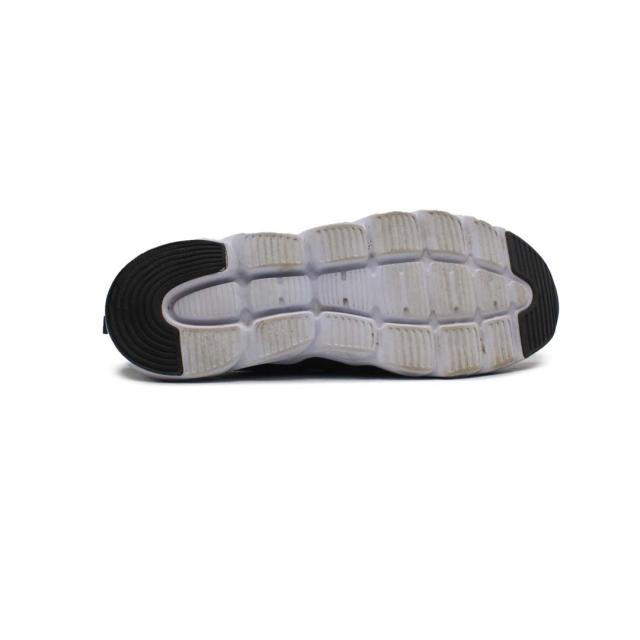outersole: (107, 201, 558, 380)
